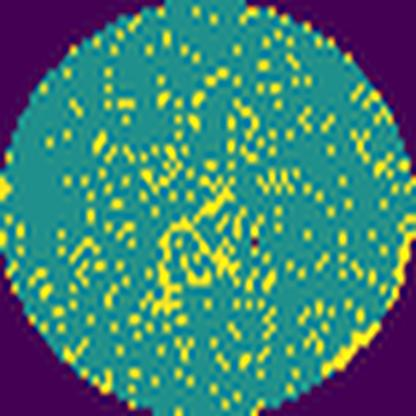Edge-Loc: (319, 320, 386, 376), (382, 212, 415, 317)
